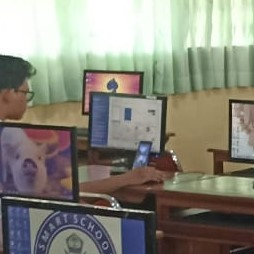monitor: (1, 196, 156, 252), (0, 122, 80, 204), (87, 91, 167, 163), (82, 70, 144, 116), (228, 99, 254, 163), (131, 141, 153, 171)
